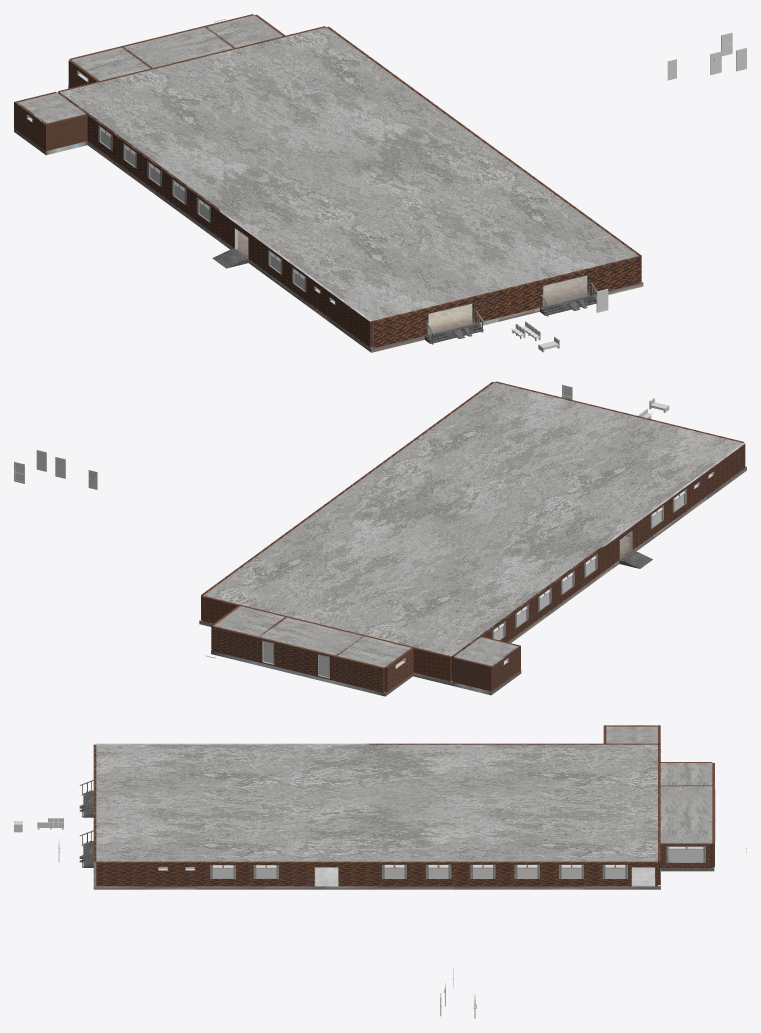
Rendered from Mapa V.015.fbx.
3 views of the same model, one above another, from view 1: azimuth 30°, elevation 25°; view 2: azimuth 150°, elevation 25°; view 3: azimuth 270°, elevation 25° (orthographic). The views are drawn at different scales.
Visible parts, largest first — view 1: teto, Parede_Direita, Parede_Frontal_Entrada, Teto_Anexo_Arquivos_Reuniao_Diretoria, Chao, Comodo_Anexo_Zelador, teto_zelador, Comodo_Anexo_Arquivo_Reuniao_Diretoria, Parede_Esquerda; view 2: teto, Parede_Direita, Comodo_Anexo_Arquivo_Reuniao_Diretoria, Teto_Anexo_Arquivos_Reuniao_Diretoria, Parede_Interna_Fundos, Comodo_Anexo_Zelador, Chao, teto_zelador, Parede_Esquerda, Chao_Anexo_Arquivo_Reuniao_Diretoria; view 3: teto, Parede_Esquerda, Teto_Anexo_Arquivos_Reuniao_Diretoria, Chao, Comodo_Anexo_Arquivo_Reuniao_Diretoria, Parede_Direita, teto_zelador, Parede_Frontal_Entrada, Vidros_Janela_Anexo_Diretoria.
Boxes of the visible parts, x1,y1,x2,y2 form: teto: (60, 27, 638, 320); Parede_Direita: (57, 92, 372, 347); Parede_Frontal_Entrada: (372, 256, 640, 347); Teto_Anexo_Arquivos_Reuniao_Diretoria: (71, 15, 282, 80); Chao: (87, 141, 643, 352); Comodo_Anexo_Zelador: (14, 91, 87, 150); teto_zelador: (17, 93, 85, 123); Comodo_Anexo_Arquivo_Reuniao_Diretoria: (68, 14, 285, 87); Parede_Esquerda: (326, 26, 641, 281); teto: (203, 382, 742, 656); Parede_Direita: (451, 443, 745, 680); Comodo_Anexo_Arquivo_Reuniao_Diretoria: (211, 605, 413, 692); Teto_Anexo_Arquivos_Reuniao_Diretoria: (214, 606, 410, 667); Parede_Interna_Fundos: (201, 595, 451, 681); Comodo_Anexo_Zelador: (452, 636, 520, 691); Chao: (199, 466, 746, 685); teto_zelador: (454, 637, 518, 665); Parede_Esquerda: (201, 382, 493, 619); Chao_Anexo_Arquivo_Reuniao_Diretoria: (211, 650, 412, 696); teto: (96, 744, 657, 861); Parede_Esquerda: (96, 861, 657, 886); Teto_Anexo_Arquivos_Reuniao_Diretoria: (660, 763, 712, 843); Chao: (93, 867, 660, 889); Comodo_Anexo_Arquivo_Reuniao_Diretoria: (660, 762, 714, 867); Parede_Direita: (96, 743, 657, 744); teto_zelador: (606, 725, 657, 743); Parede_Frontal_Entrada: (93, 744, 96, 884); Vidros_Janela_Anexo_Diretoria: (669, 847, 703, 862).
Bounding box in the file's own units: 7389 × 348 × 8483.
87 materials, 21 textured.
